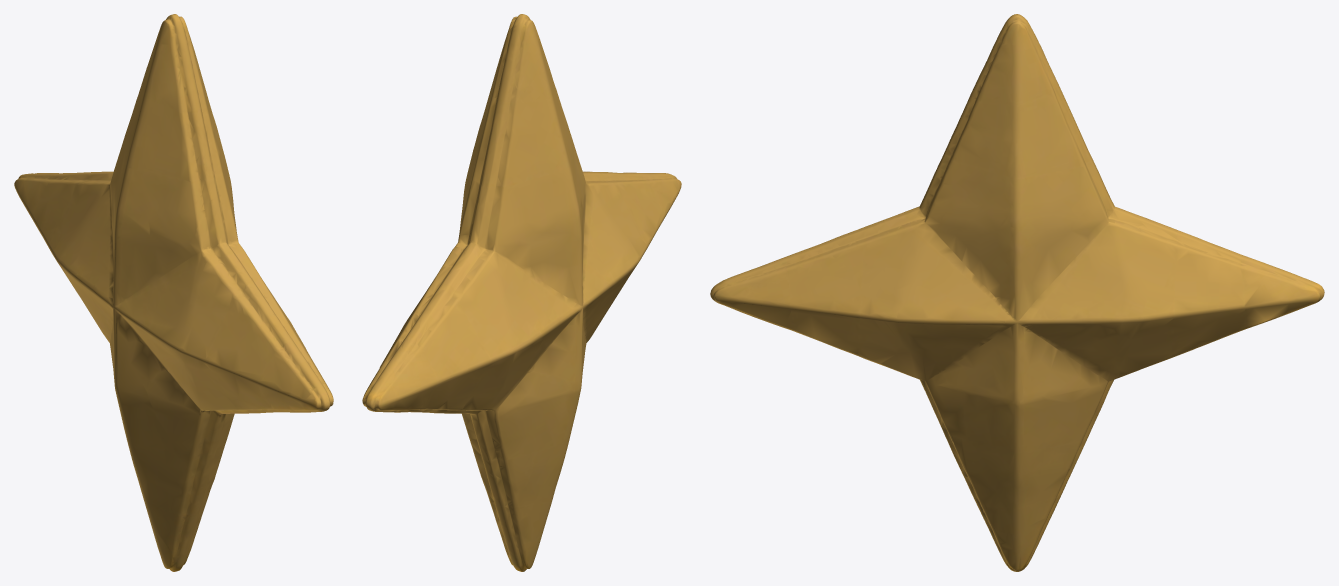
The model's file is ic-changeArtifact.glb.
3 views of the same model, side by side, from view 1: azimuth 30°, elevation 25°; view 2: azimuth 150°, elevation 25°; view 3: azimuth 270°, elevation 25° (orthographic).
Visible parts, largest first — view 1: tripo_node_5207c1dd-b185-4345-b36d-e48cb15bd873; view 2: tripo_node_5207c1dd-b185-4345-b36d-e48cb15bd873; view 3: tripo_node_5207c1dd-b185-4345-b36d-e48cb15bd873.
Part boxes in pixels (x1,y1,x2,y2): tripo_node_5207c1dd-b185-4345-b36d-e48cb15bd873: [14, 14, 333, 571]; tripo_node_5207c1dd-b185-4345-b36d-e48cb15bd873: [362, 14, 681, 571]; tripo_node_5207c1dd-b185-4345-b36d-e48cb15bd873: [710, 14, 1324, 571].
Bounding box in the file's own units: 0.0227 × 0.1 × 0.1.
Materials: 1 (1 with a texture image).
